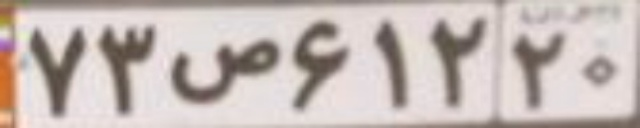0: (578, 52, 623, 87)
1: (371, 19, 411, 109)
2: (428, 14, 486, 107), (509, 29, 566, 108)
3: (100, 23, 158, 114)
6: (289, 18, 354, 110)
7: (30, 26, 85, 116)
saat: (167, 39, 282, 103)
